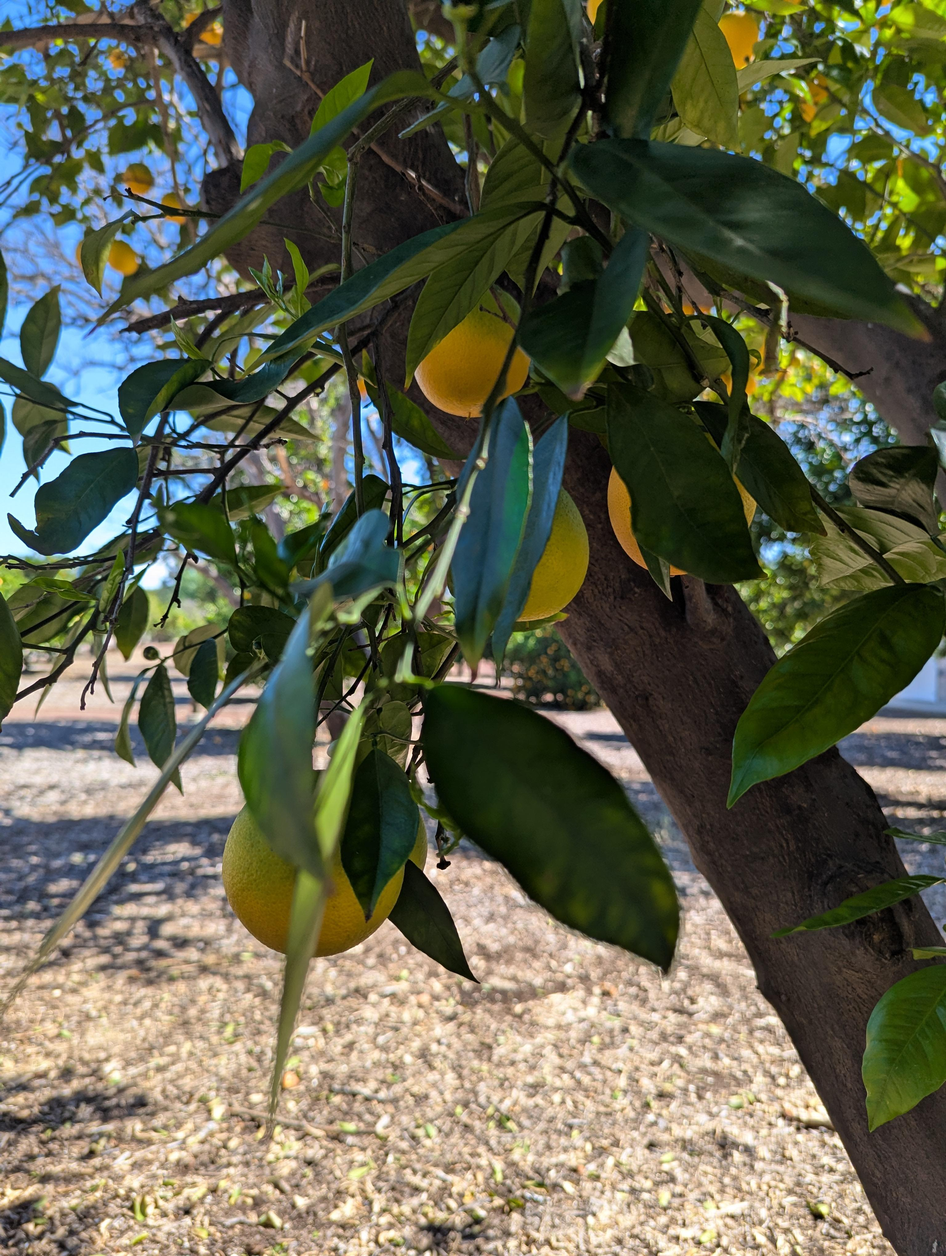orange: (222, 772, 405, 958), (607, 410, 757, 575), (410, 282, 531, 418), (519, 484, 589, 622), (715, 11, 759, 72), (799, 74, 835, 125), (406, 808, 428, 872), (105, 240, 139, 276), (586, 0, 616, 34), (195, 21, 225, 53), (123, 164, 153, 194), (160, 193, 189, 224), (741, 372, 756, 395), (109, 48, 125, 68), (185, 13, 202, 31), (77, 240, 85, 270), (697, 305, 711, 319), (681, 305, 695, 318)
